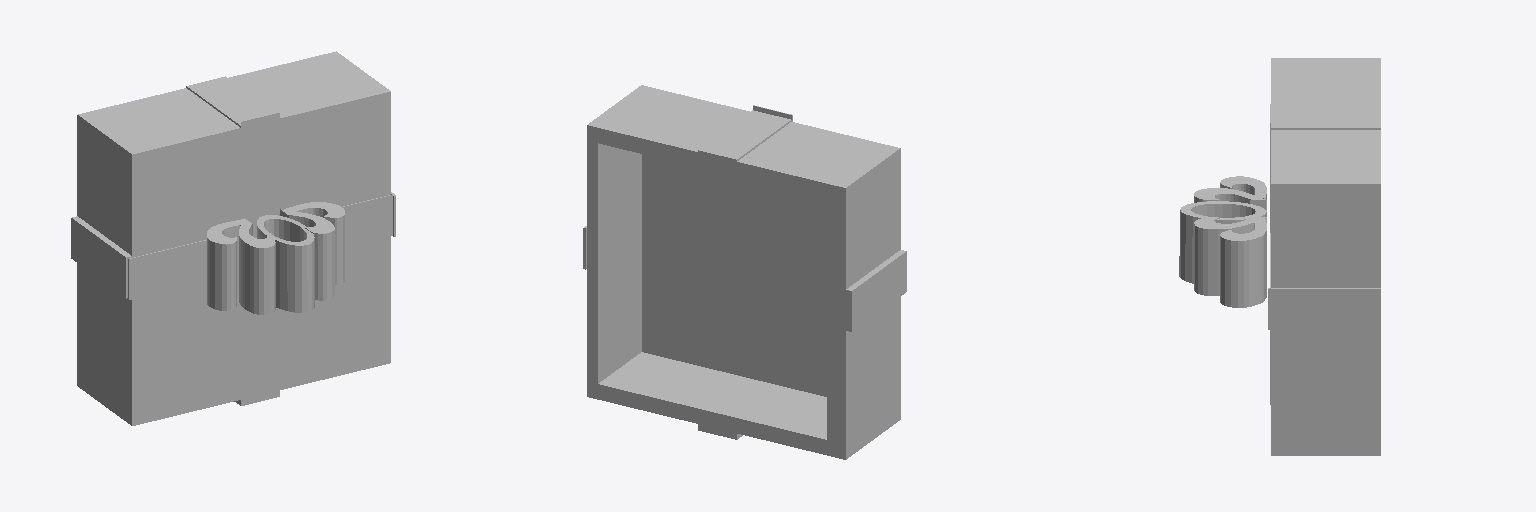
File: uppresent.obj
3 views of the same model, side by side, from view 1: azimuth 30°, elevation 25°; view 2: azimuth 150°, elevation 25°; view 3: azimuth 270°, elevation 25° (orthographic).
Visible parts, largest first — view 1: obj_0; view 2: obj_0; view 3: obj_0.
Boxes of the visible parts, x1=… form: obj_0: x1=71, y1=51, x2=395, y2=425; obj_0: x1=583, y1=85, x2=906, y2=459; obj_0: x1=1179, y1=58, x2=1380, y2=455.
Bounding box in the file's own units: 35.39 × 35.88 × 23.